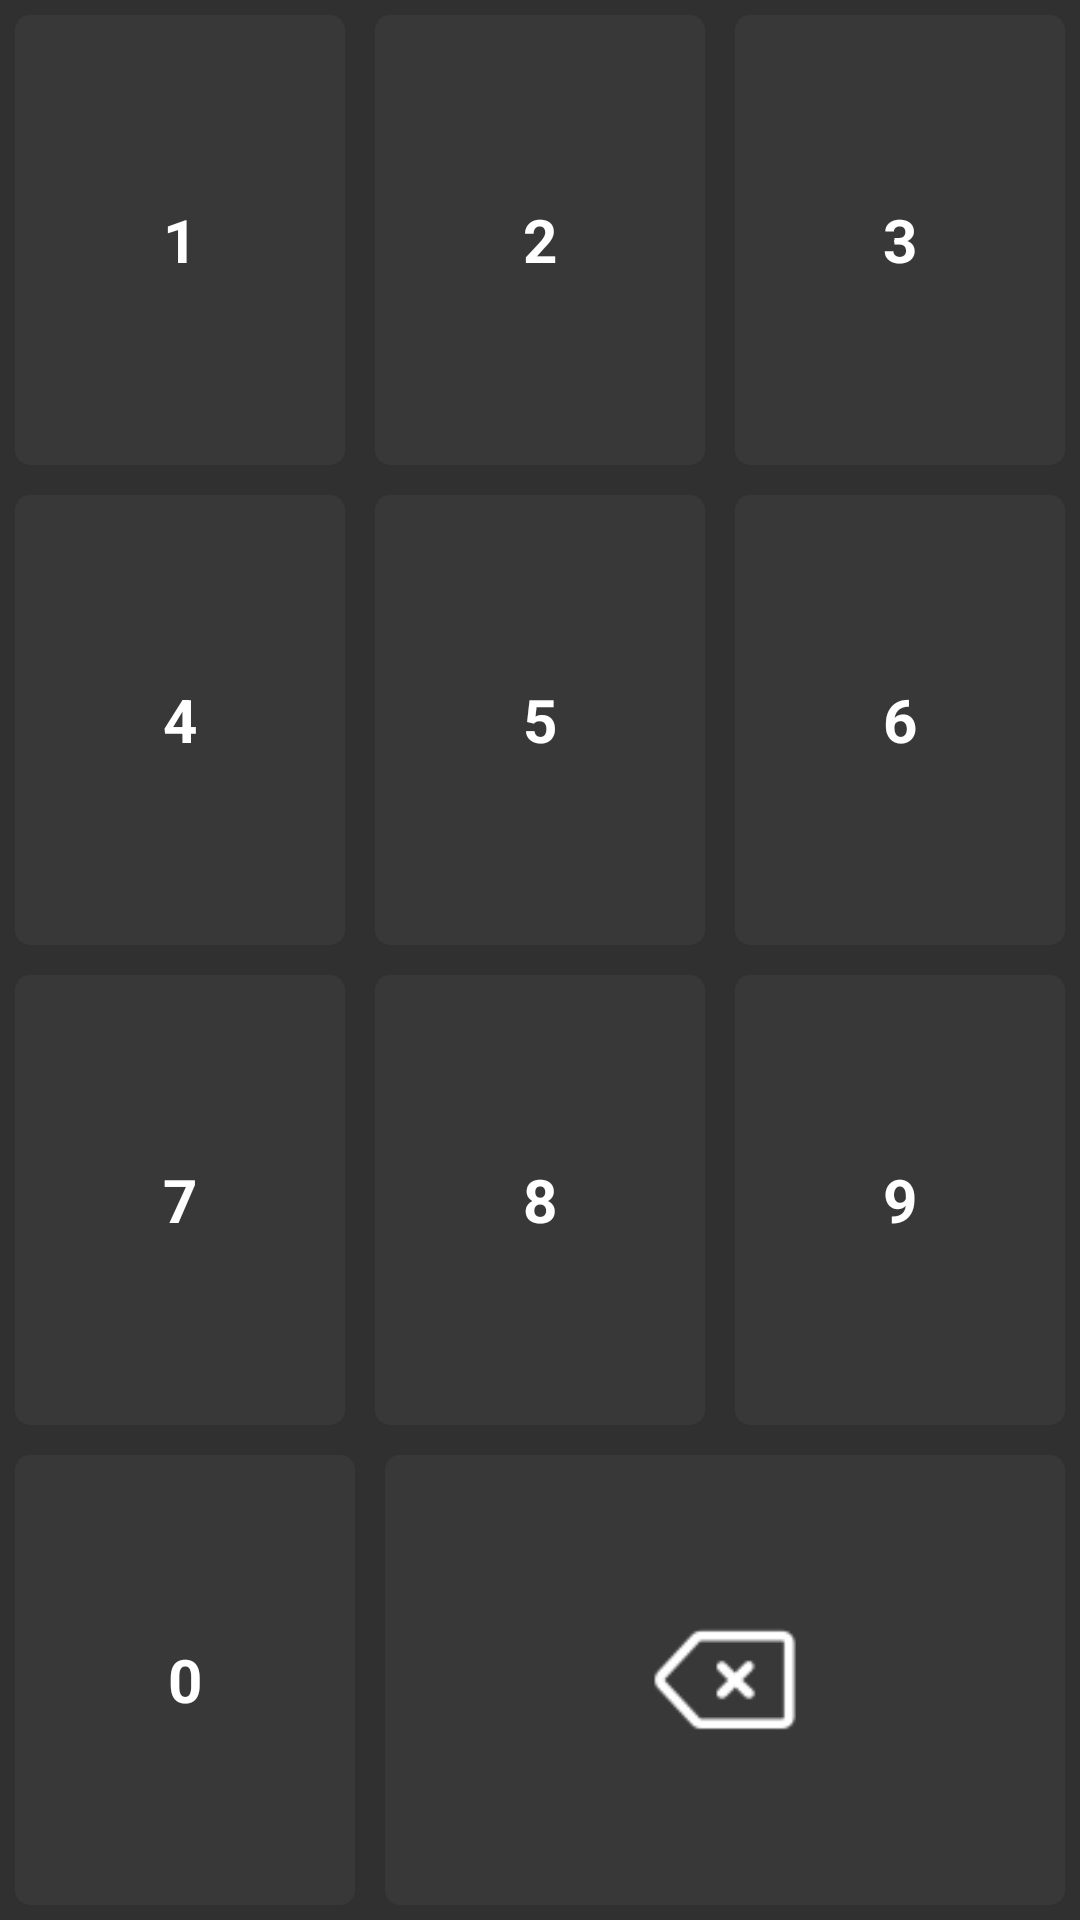

Locate icon controls on the screen. Image size 1080×1920, boxes as (x1, y1, x2, y2).
delete: (654, 1630, 796, 1730)
